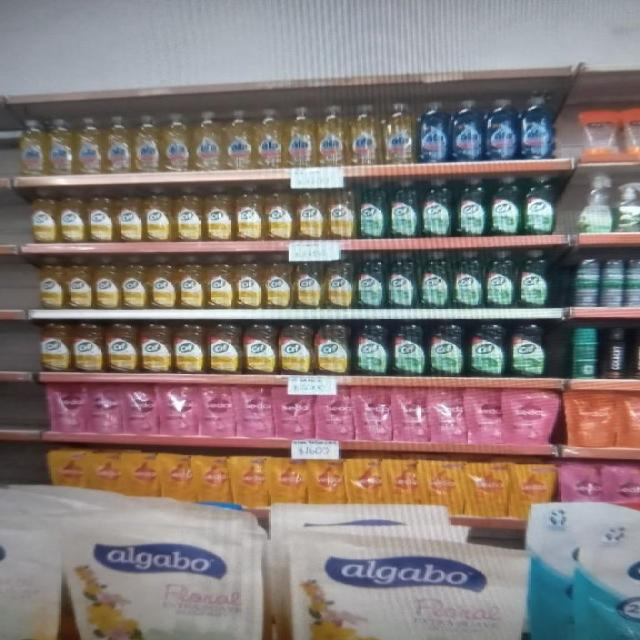ala_conc_amarillo: (384, 102, 416, 164), (349, 103, 380, 166), (316, 104, 346, 167), (285, 106, 315, 168), (192, 110, 222, 172), (254, 108, 283, 170), (224, 109, 253, 170), (17, 117, 46, 176), (162, 112, 190, 172), (104, 115, 132, 174), (76, 116, 103, 175), (134, 114, 160, 173), (48, 117, 74, 175)
ala_conc_azul: (519, 96, 554, 160), (485, 97, 517, 161), (450, 99, 482, 162), (418, 100, 448, 163)
cif_conc_bot_amarilla: (316, 320, 351, 376), (279, 320, 313, 376), (207, 321, 241, 375), (243, 321, 277, 375), (234, 183, 264, 241), (173, 322, 206, 374), (326, 182, 356, 239), (324, 252, 354, 309), (106, 321, 138, 374), (204, 184, 233, 242), (296, 183, 325, 240), (140, 321, 171, 374), (73, 320, 104, 373), (144, 186, 173, 242), (29, 188, 58, 244), (266, 183, 294, 241), (264, 253, 293, 309), (86, 188, 115, 243), (235, 254, 263, 309), (40, 321, 70, 372), (175, 186, 202, 242), (294, 254, 322, 308), (58, 189, 85, 243), (37, 256, 64, 310), (206, 255, 233, 309), (121, 256, 148, 310), (116, 187, 142, 242), (178, 255, 204, 309), (66, 256, 92, 310), (150, 256, 176, 310), (94, 256, 119, 310)
cif_conc_botella_verde: (509, 321, 548, 378), (468, 321, 507, 378), (428, 320, 465, 378), (523, 174, 557, 236), (353, 319, 389, 377), (518, 249, 552, 309), (392, 320, 426, 378), (489, 176, 521, 236), (455, 177, 487, 237), (484, 250, 516, 309), (389, 179, 419, 239), (422, 178, 452, 238), (454, 250, 484, 309), (420, 250, 450, 309), (357, 180, 386, 240), (386, 251, 416, 309), (356, 252, 384, 309)
